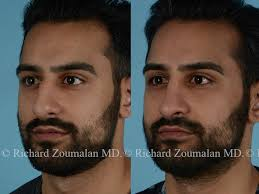middle_eastern_male: (20, 16, 126, 159)
